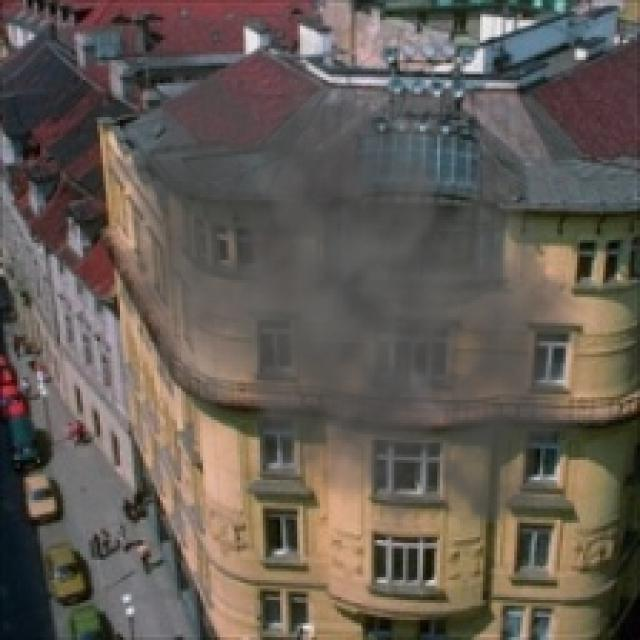smoke: (71, 28, 623, 566)
